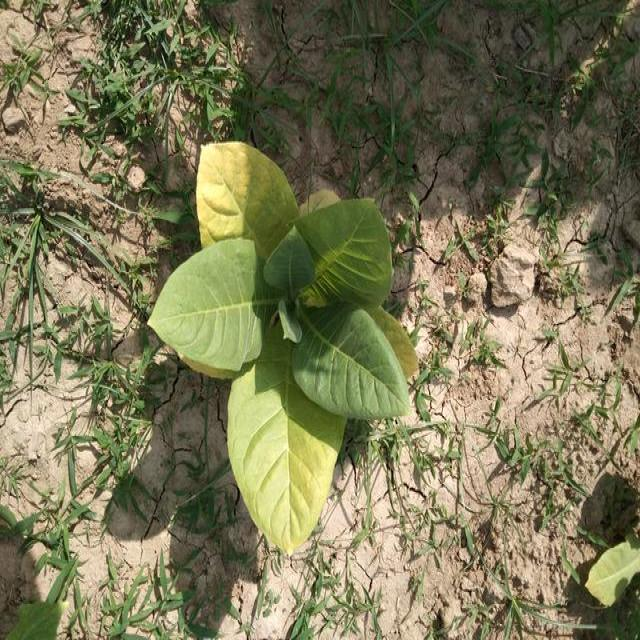crop: (145, 121, 422, 558)
